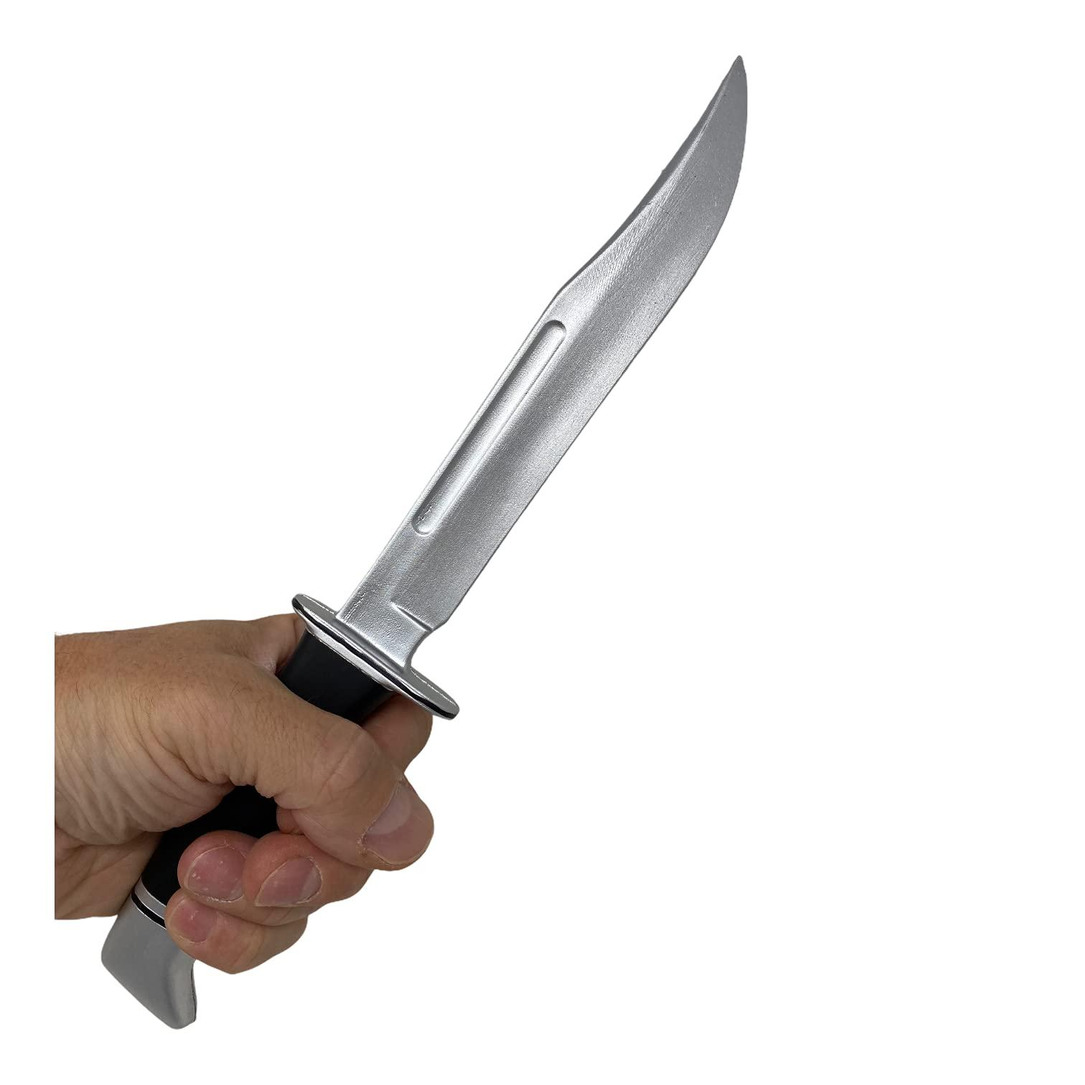Knife: (339, 52, 749, 662), (52, 591, 436, 972)
